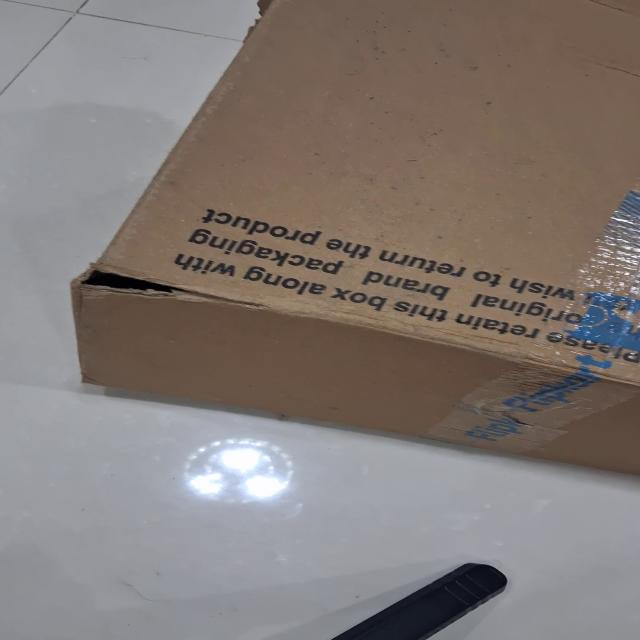paper: (67, 0, 639, 477)
